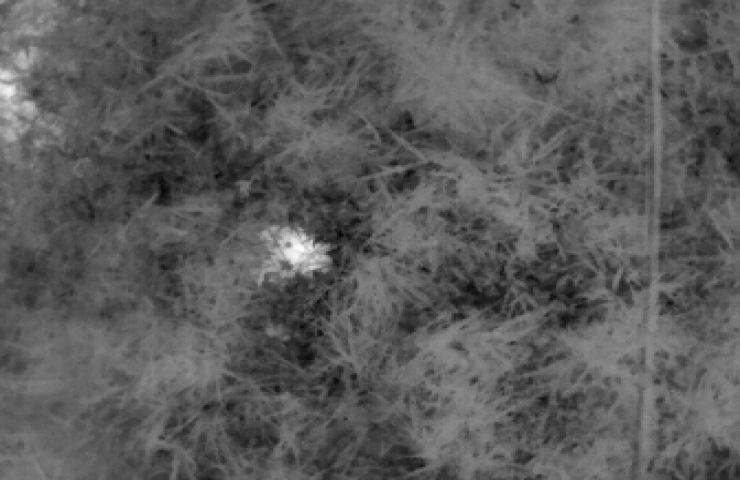landmines: (257, 222, 336, 281)
